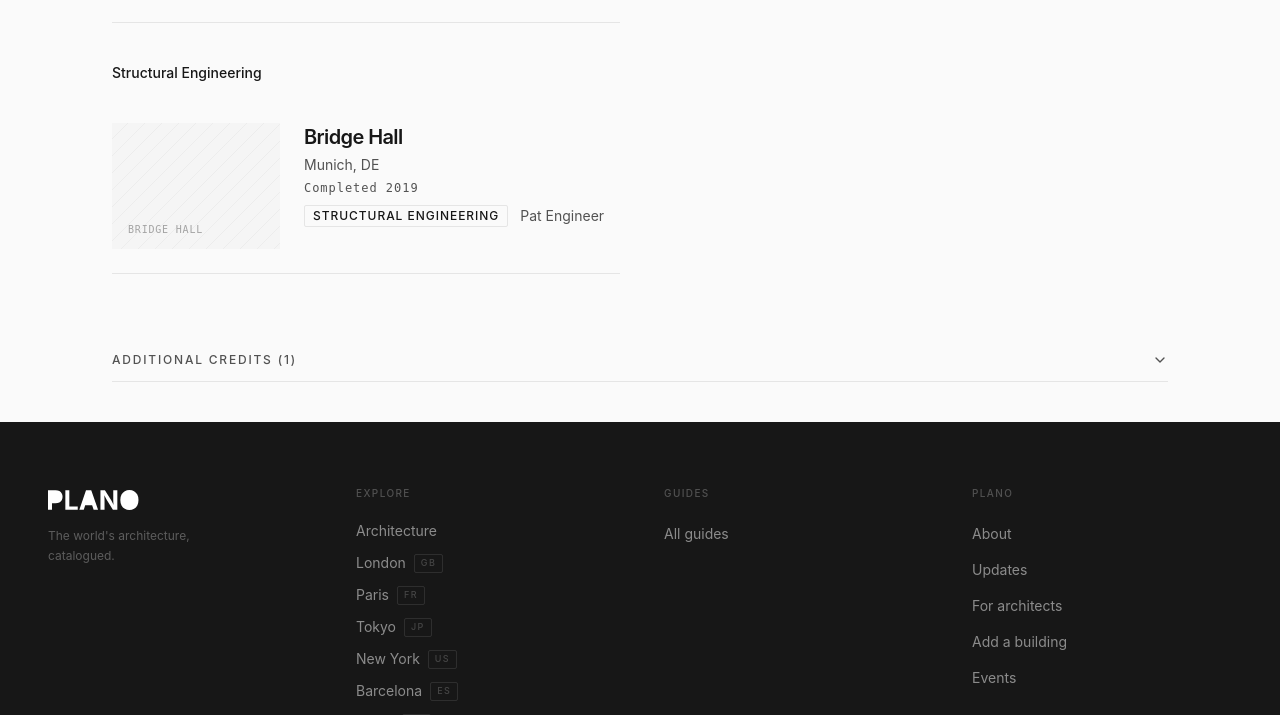
Test case: CompanyDetails (QA 4.1 unclaimed) › lists primary credits and ancillary behind a toggle with tier headings
(page scrolled)
Expected: the link "Bridge Hall" is shown, [304,125,403,149]
Expected: the link "Side Pavilion" is not shown
Click the button "Additional credits (1)" at (198, 359), box [112,338,1168,382]
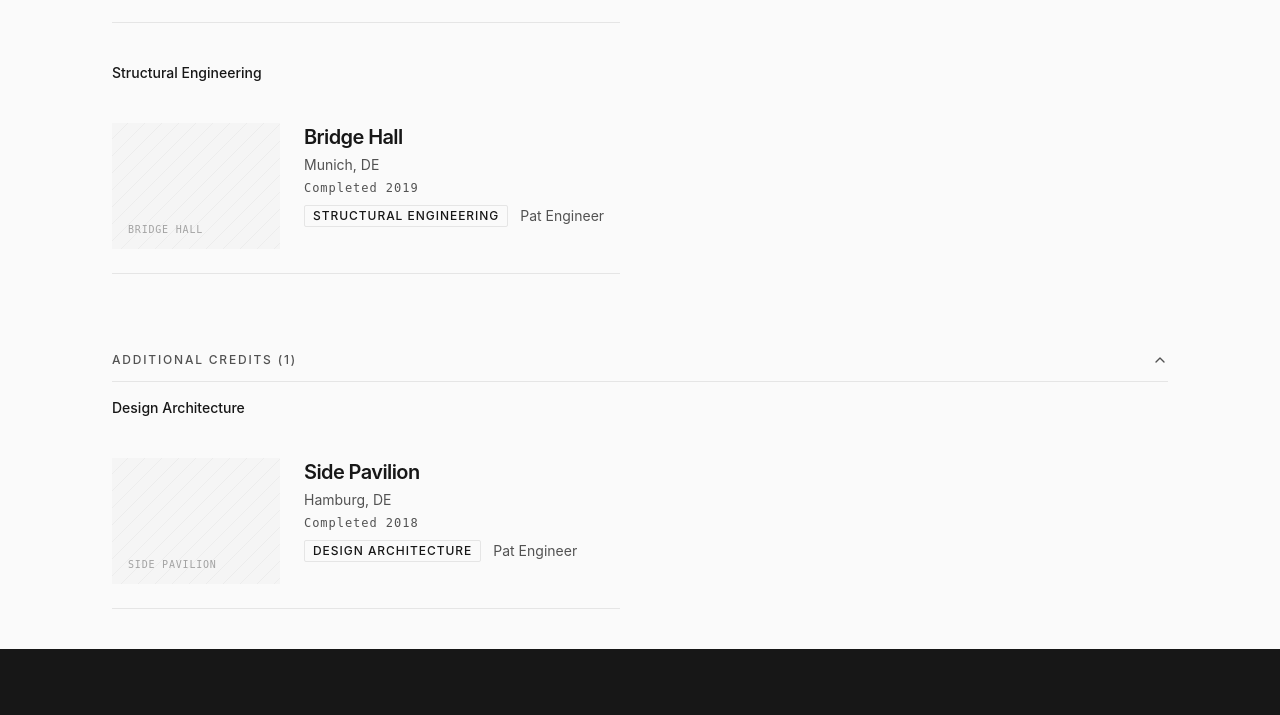
Now the link "Side Pavilion" is shown, box [304,460,420,484]
